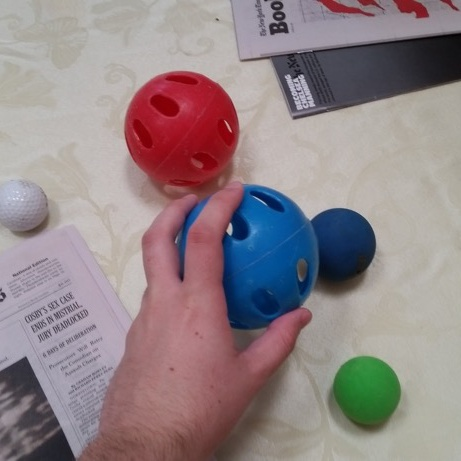blueball: (178, 184, 318, 326)
redball: (124, 72, 238, 186)
